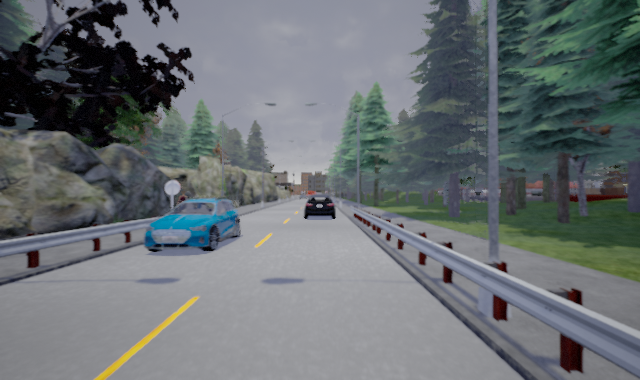vehicle: (142, 195, 242, 254), (303, 193, 336, 219)
